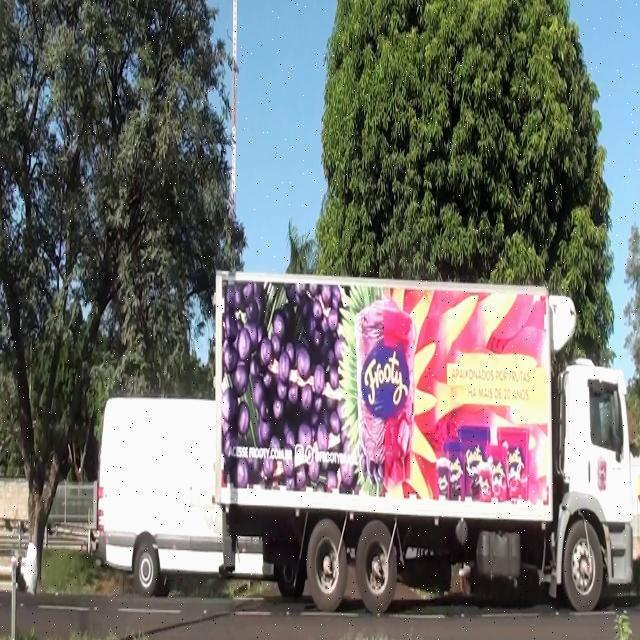-axle: (356, 515, 398, 618), (305, 518, 349, 614), (562, 518, 604, 614)
